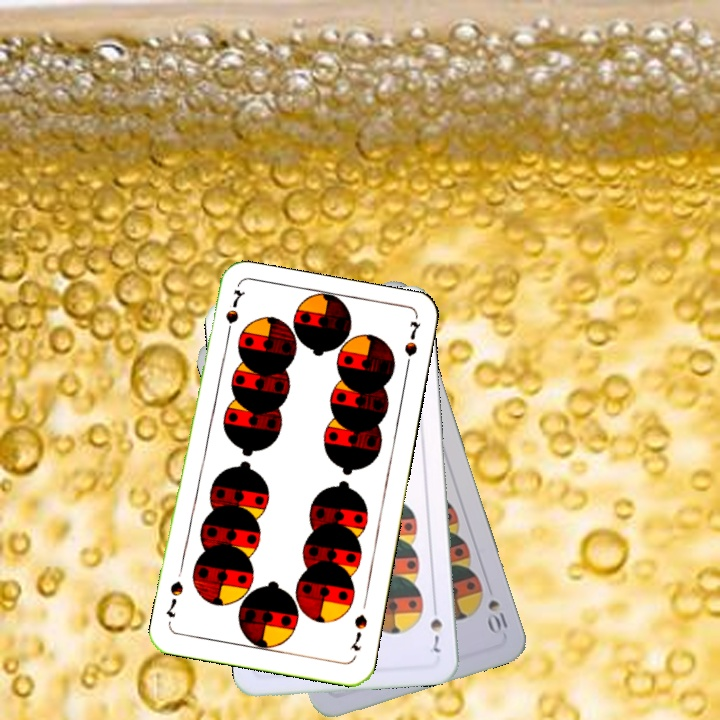S10: (483, 595, 510, 634)
S7: (221, 285, 244, 343), (426, 599, 445, 655), (346, 610, 370, 654)
